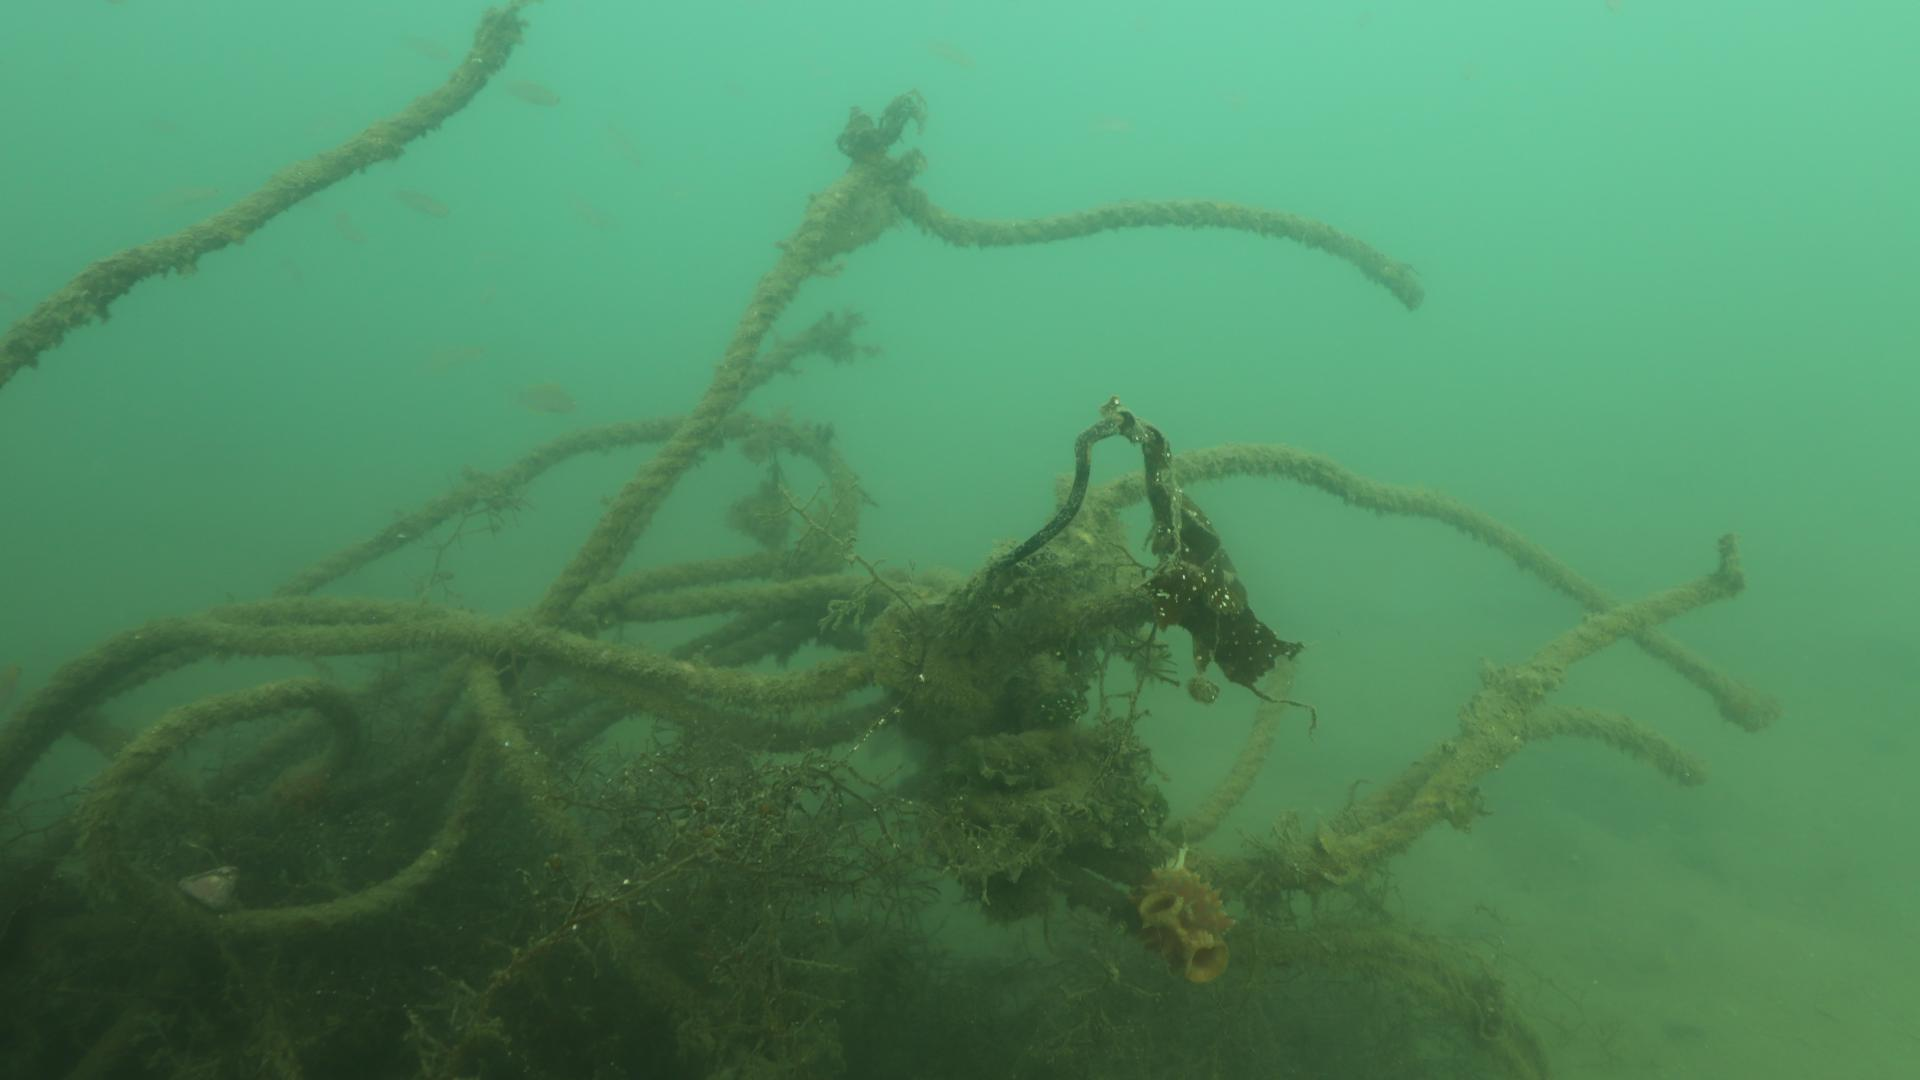bundle of ropes: (0, 0, 1766, 1080)
